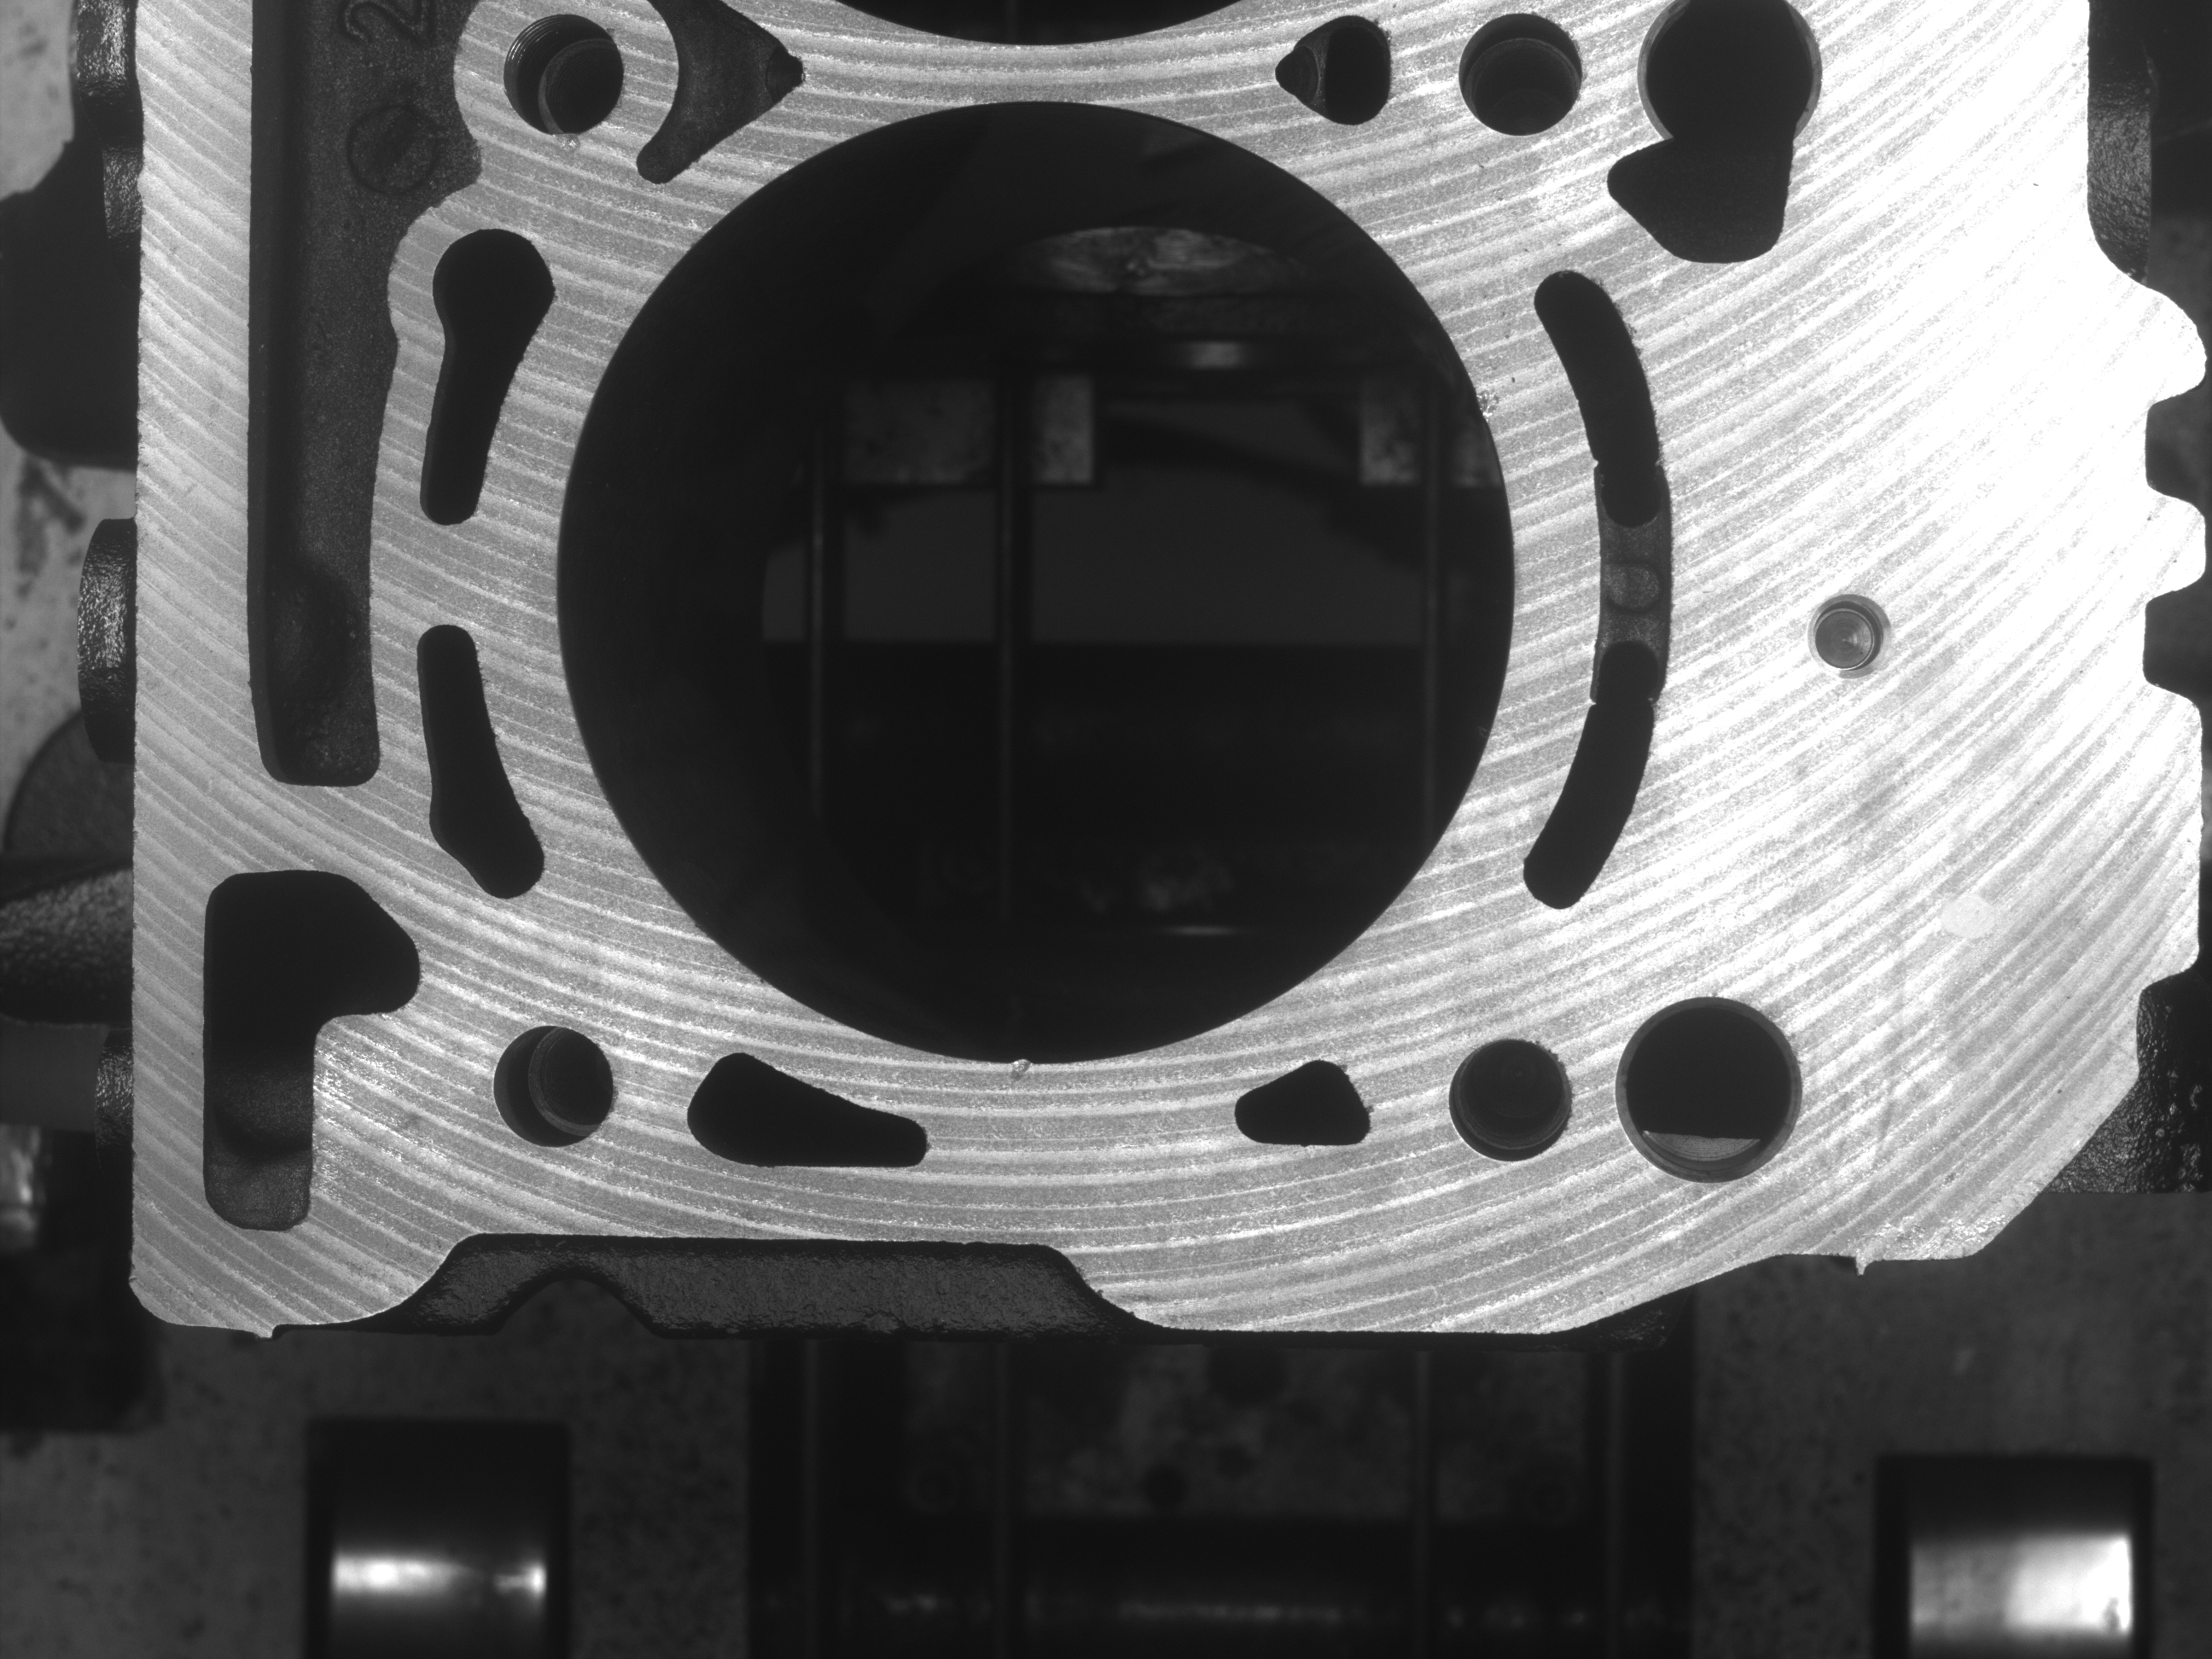dirty: (1948, 876, 2001, 948)
shrinkage: (1466, 387, 1514, 424)
